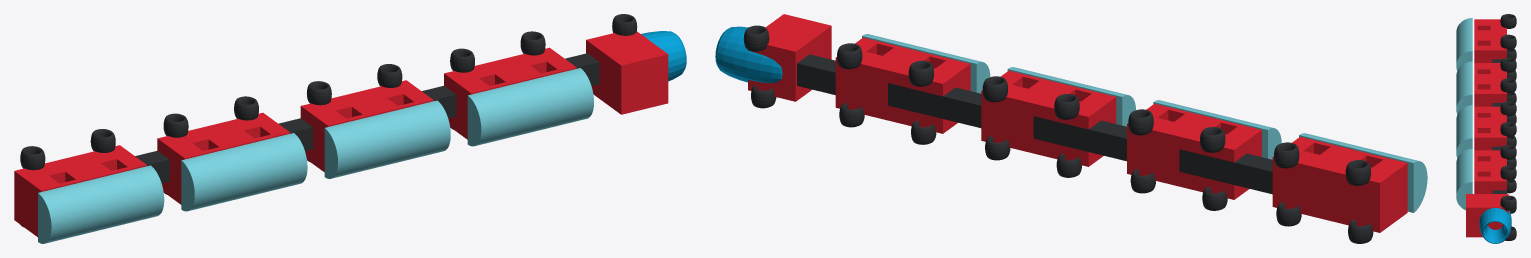
The model's file is tinker.obj.
3 views of the same model, side by side, from view 1: azimuth 30°, elevation 25°; view 2: azimuth 150°, elevation 25°; view 3: azimuth 270°, elevation 25° (orthographic). The views are drawn at different scales.
Visible parts, largest first — view 1: group_0_7720667, group_0_15277357, group_0_2829873, group_0_40919; view 2: group_0_15277357, group_0_2829873, group_0_7720667, group_0_40919; view 3: group_0_15277357, group_0_7720667, group_0_2829873, group_0_40919.
Boxes of the visible parts, x1,y1,x2,y2 form: group_0_7720667: (38, 68, 593, 243); group_0_15277357: (14, 31, 668, 236); group_0_2829873: (20, 14, 637, 227); group_0_40919: (641, 31, 686, 81); group_0_15277357: (748, 14, 1407, 232); group_0_2829873: (743, 25, 1373, 243); group_0_7720667: (862, 34, 1427, 212); group_0_40919: (715, 26, 782, 83); group_0_15277357: (1466, 19, 1508, 237); group_0_7720667: (1456, 18, 1472, 210); group_0_2829873: (1492, 14, 1516, 240); group_0_40919: (1479, 208, 1511, 243).
Bounding box in the file's own units: 280 × 34 × 37.
